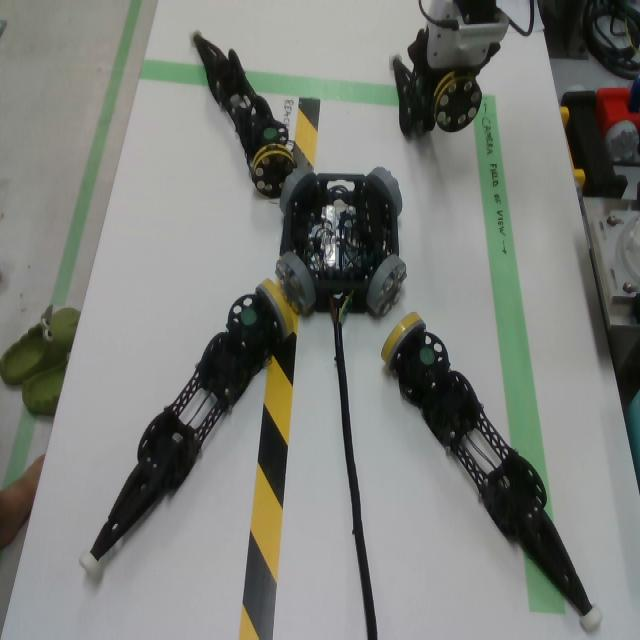body: (280, 173, 398, 315)
body_connector: (275, 252, 317, 316), (367, 255, 408, 317), (368, 167, 403, 217), (280, 168, 316, 215)
gripper: (407, 25, 501, 92)
leg: (381, 312, 604, 633), (79, 277, 295, 568), (188, 25, 296, 197), (387, 51, 482, 139)
leg_connector: (434, 71, 482, 133), (381, 312, 426, 371), (251, 144, 296, 199), (255, 279, 294, 340)
leg_marker: (242, 309, 256, 325), (420, 349, 434, 363), (263, 128, 277, 139)
